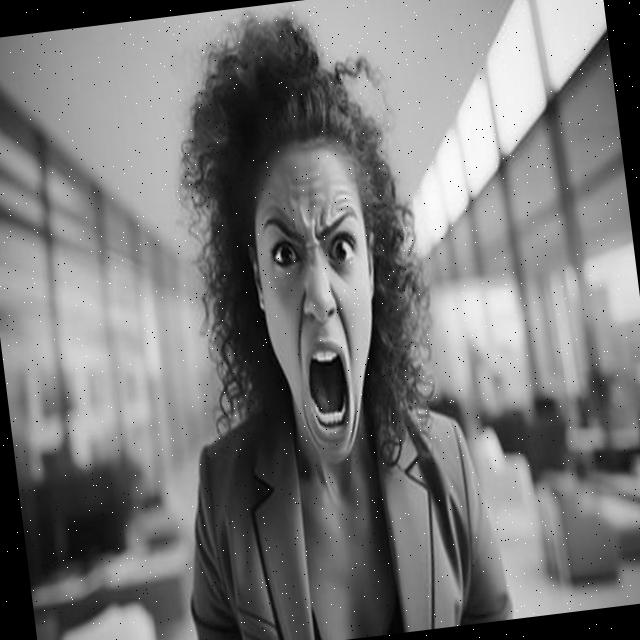Angry: (245, 142, 392, 466)
